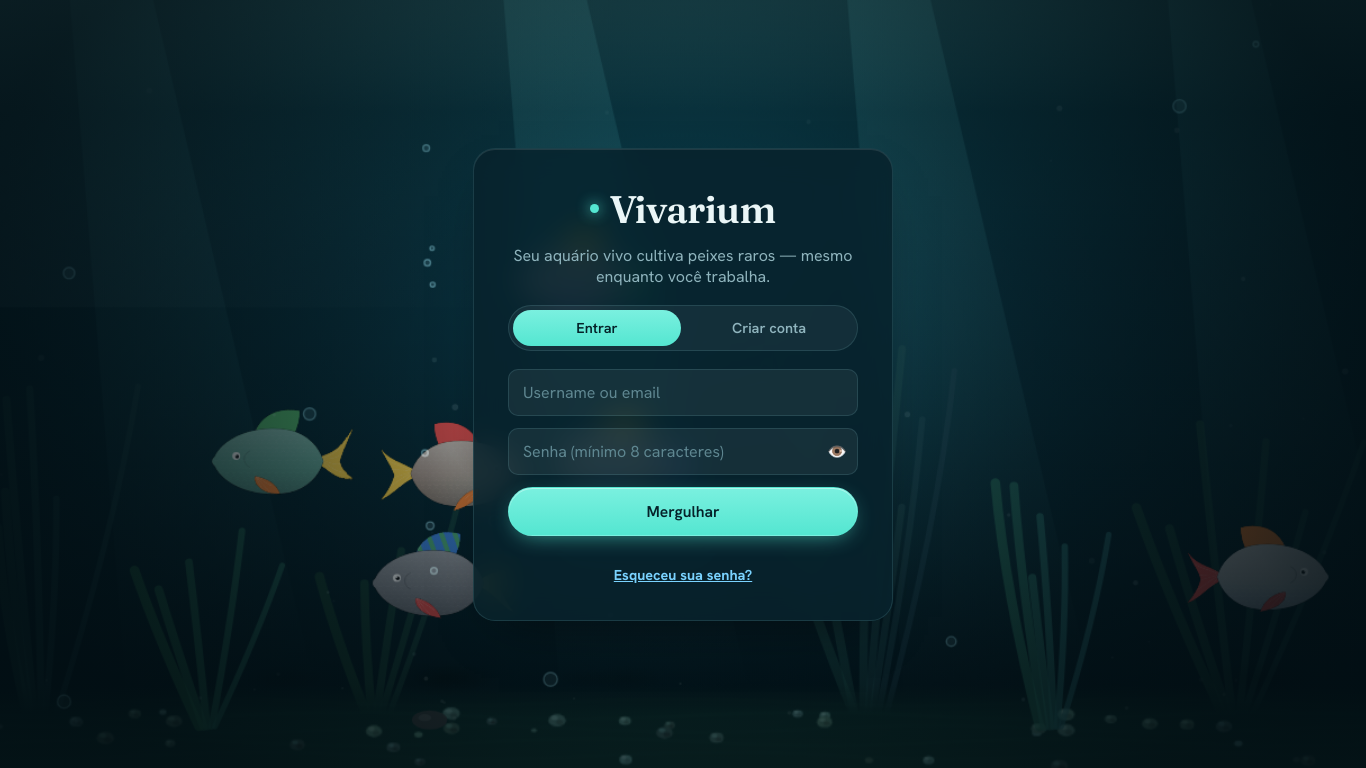
Test: VIP › mostra os 3 pacotes com preço e nenhum VIP ativo
This screenshot has width=1366, height=768.
In the field with placeholder "Username ou email": (683, 393) [508, 369, 858, 416], type "jogador1"
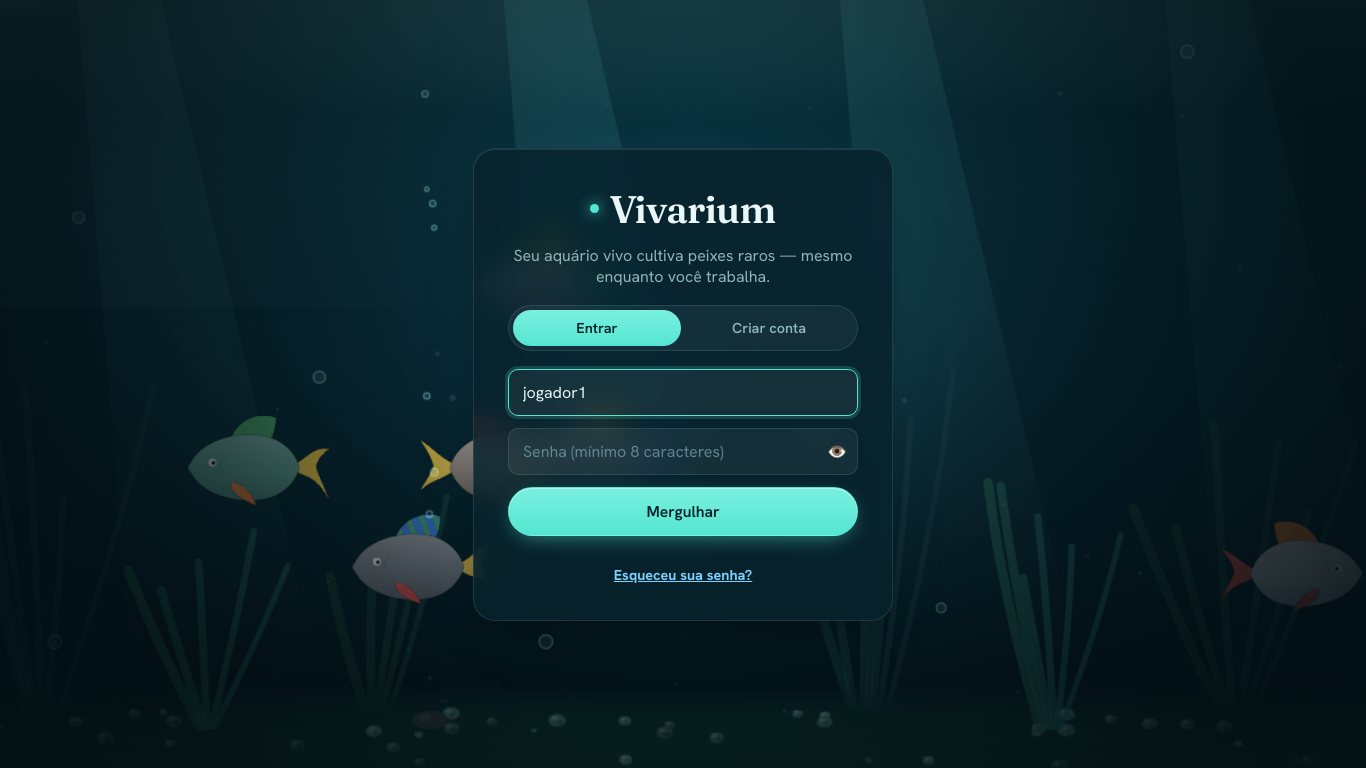
In the password field with placeholder "Senha (mínimo 8 caracteres)": (683, 452) [508, 428, 858, 475], type "senha-forte-123"
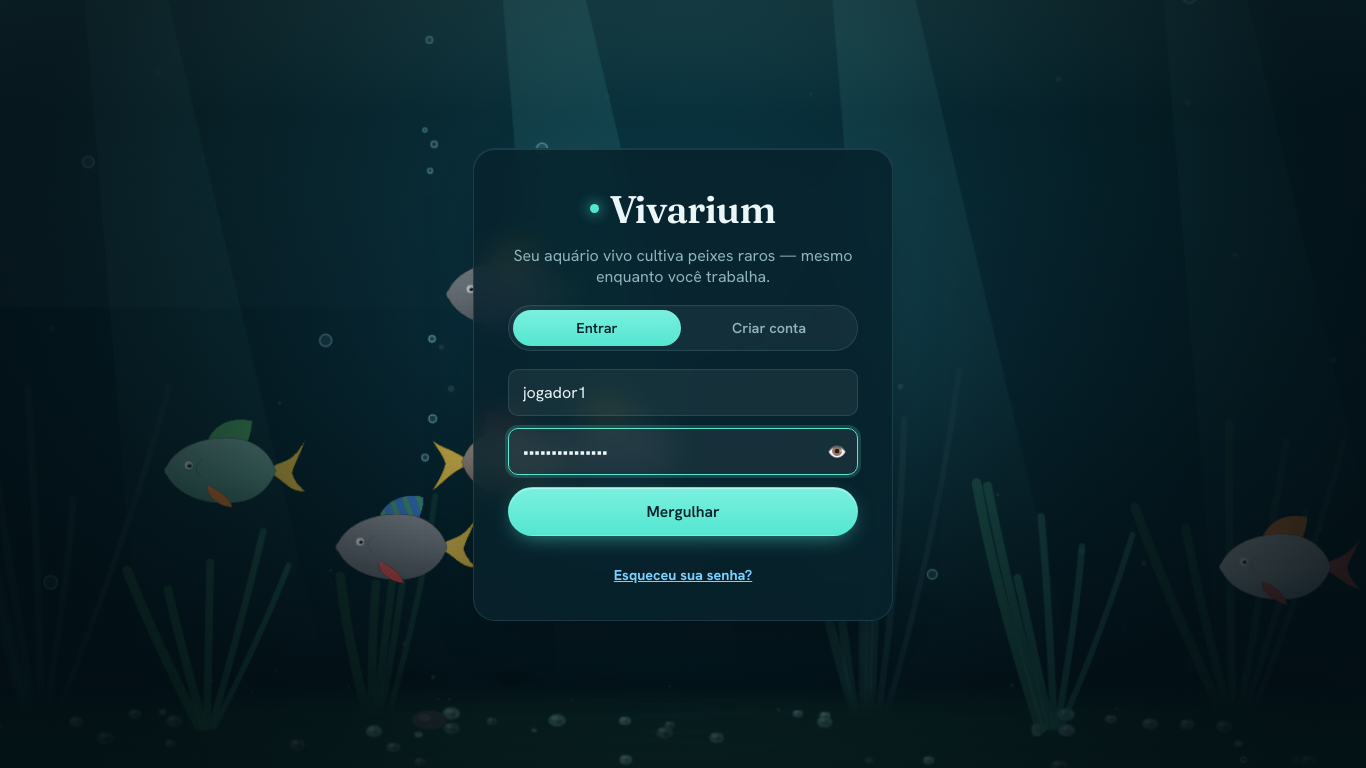
Click the button "Mergulhar": click(683, 512) [508, 487, 858, 536]
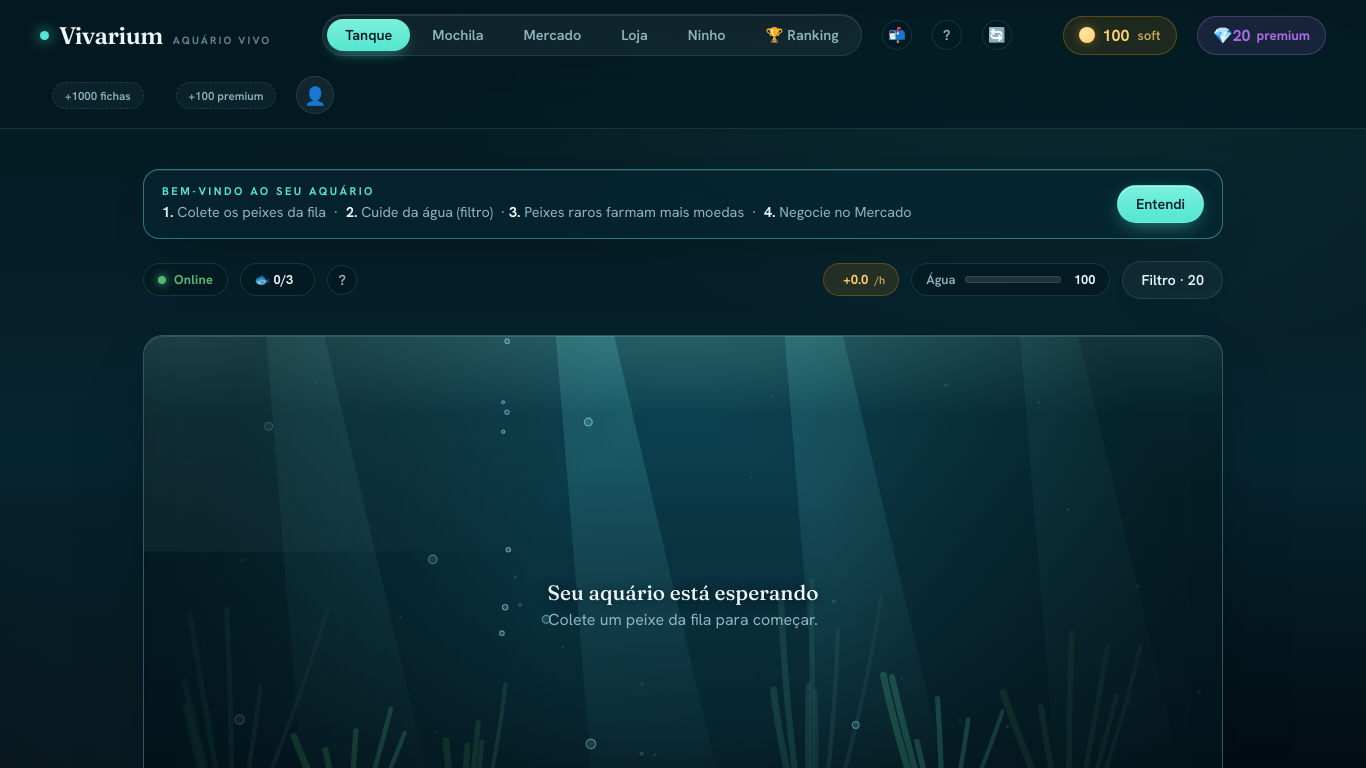
Click the button "Loja": click(635, 35) [603, 19, 666, 51]
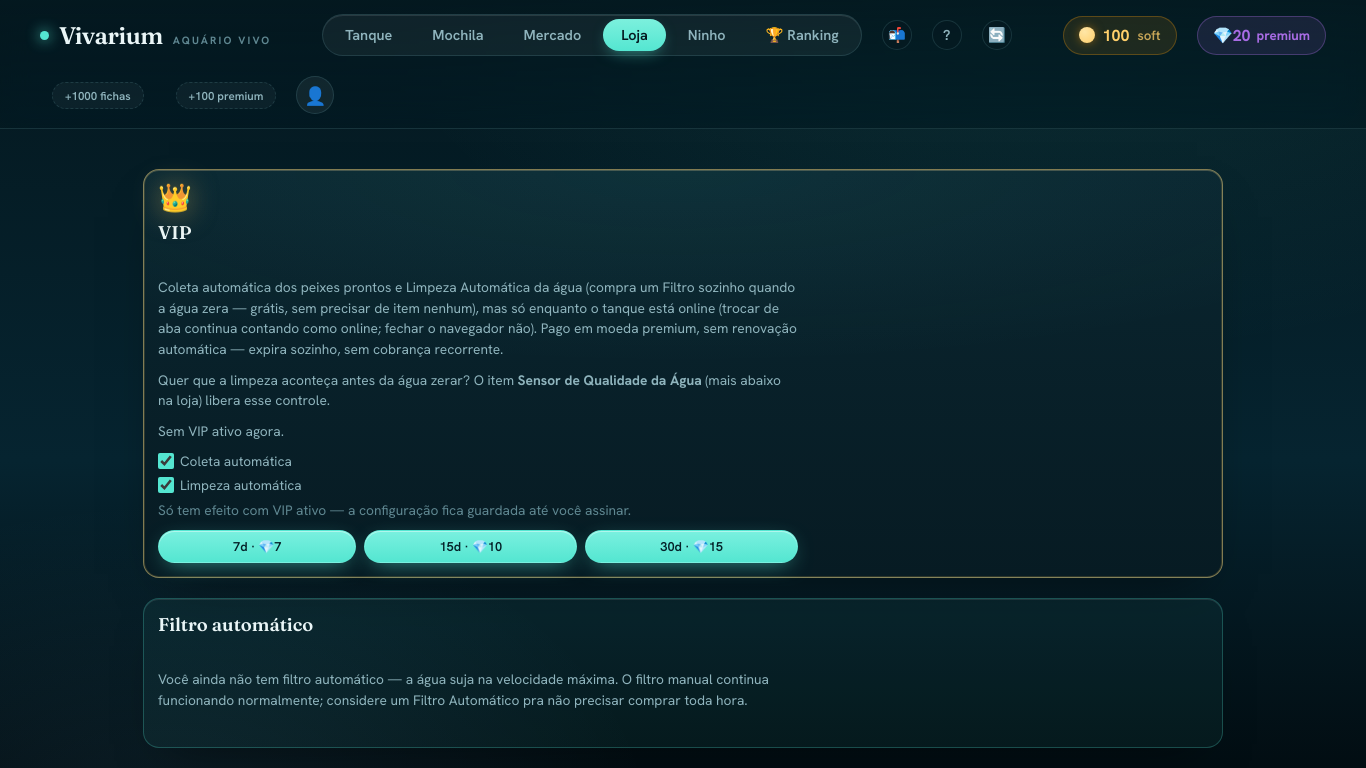
Now the text "Sem VIP ativo agora." is shown, box [158, 422, 284, 440]
Now the button "7d · 💎7" is shown, box [158, 530, 356, 563]
Now the button "15d · 💎10" is shown, box [364, 530, 577, 563]
